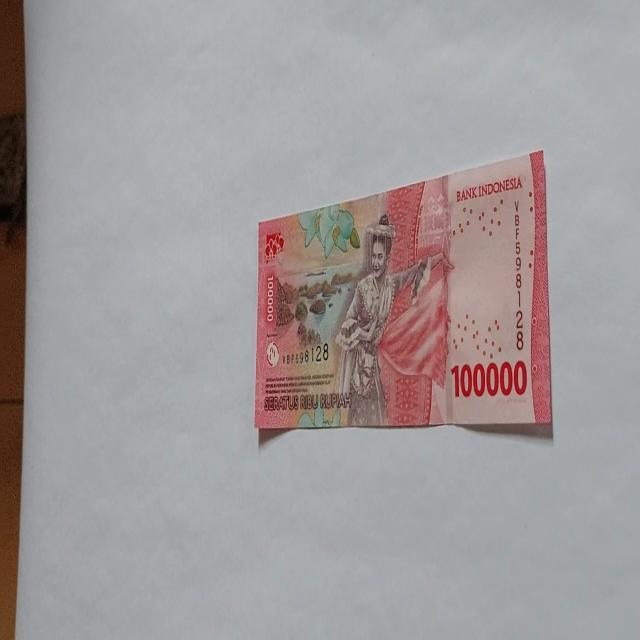seratus ribu rupiah: (253, 148, 552, 436), (333, 212, 433, 426)
